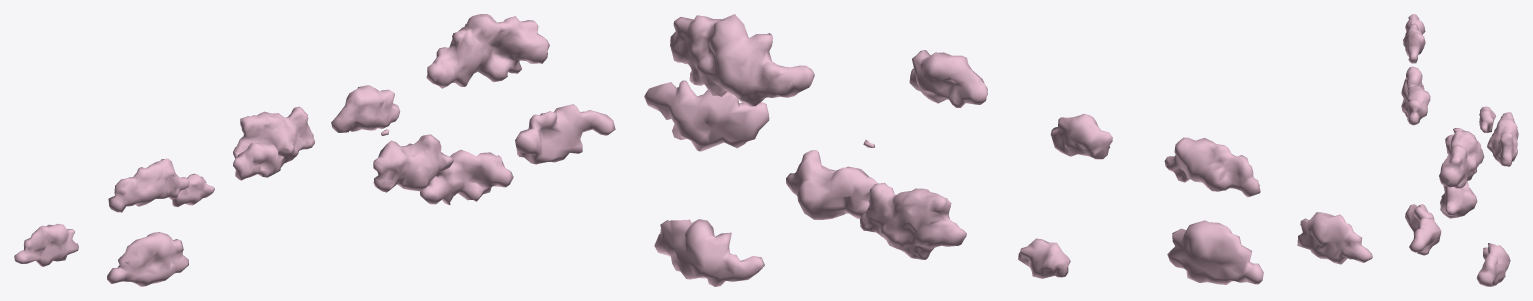
Rendered from clouds_left.glb.
The picture shows the model from 3 angles, left to right: view 1: azimuth 30°, elevation 25°; view 2: azimuth 150°, elevation 25°; view 3: azimuth 270°, elevation 25°; orthographic projection. The views are drawn at different scales.
Visible parts, largest first — view 1: Mball.003, Mball.002, Mball.005, Mball.008, Mball.006, Mball.009; view 2: Mball.002, Mball.003, Mball.005, Mball.009, Mball.008, Mball.006; view 3: Mball.003, Mball.002, Mball.005, Mball.009, Mball.008, Mball.006.
Boxes of the visible parts, x1,y1,x2,y2 form: Mball.003: [373, 14, 549, 192]; Mball.002: [14, 85, 400, 266]; Mball.005: [515, 104, 615, 164]; Mball.008: [420, 149, 513, 204]; Mball.006: [107, 232, 188, 286]; Mball.009: [233, 106, 314, 167]; Mball.002: [909, 50, 1372, 278]; Mball.003: [670, 14, 877, 219]; Mball.005: [644, 80, 769, 151]; Mball.009: [860, 182, 966, 259]; Mball.008: [654, 219, 764, 286]; Mball.006: [1167, 220, 1263, 284]; Mball.003: [1439, 128, 1484, 218]; Mball.002: [1403, 14, 1495, 133]; Mball.005: [1405, 204, 1441, 255]; Mball.009: [1487, 112, 1518, 166]; Mball.008: [1476, 243, 1510, 286]; Mball.006: [1401, 79, 1424, 117].
Bounding box in the file's own units: 83.08 × 26.97 × 19.02.
